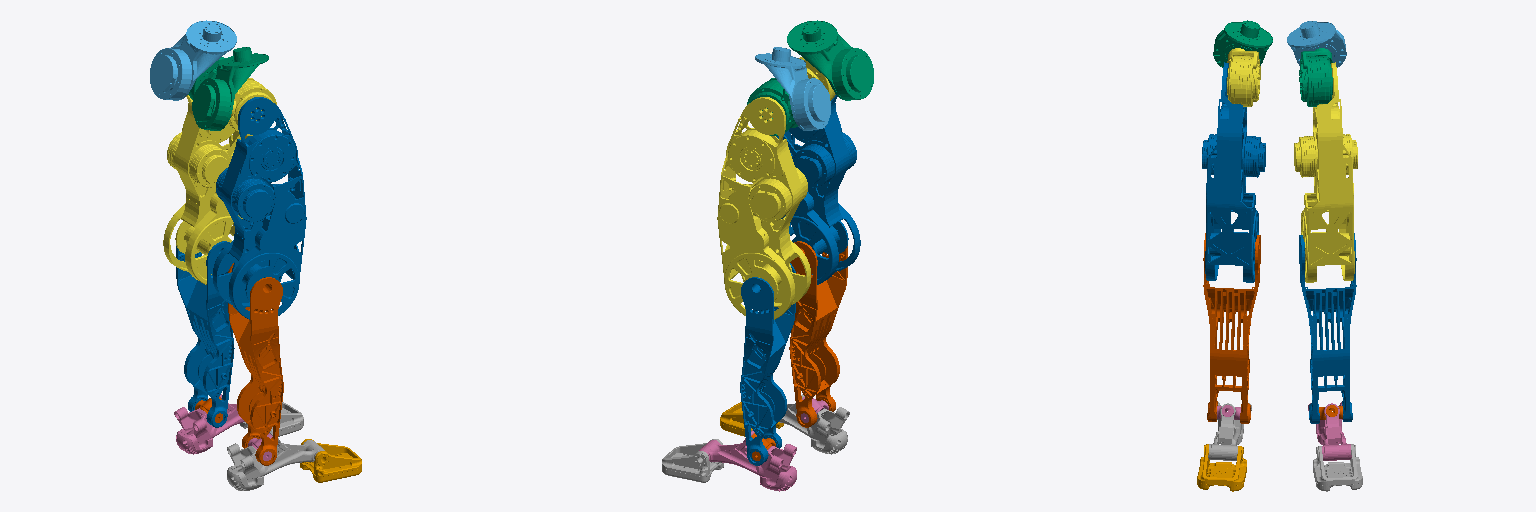
robot.urdf — prestoe:
<?xml version="1.0" encoding="utf-8"?>
<robot name="prestoe">
    <link name="torso_link">
        <inertial>
            <mass value="7.3955327"/>
            <inertia ixx="314898.04974e-6" ixy="-23.52183e-6" ixz="-983.13041e-6" iyy="292494.07567e-6" iyz="824.26242e-6" izz="47419.11099e-6"/>
            <origin rpy="0 0 0" xyz="0.02827e-3 -0.53546e-3 170.93286e-3"/>
        </inertial>
        <visual>
            <origin rpy="0 0 0" xyz="0.0 0.0 0.0"/>
            <geometry>
                <mesh filename="meshes/torso_link.stl"/>
            </geometry>
        </visual>
        <collision>
            <origin rpy="0 0 0" xyz="0.0 0.0 0.0"/>
            <geometry>
                <mesh filename="meshes/torso_link.stl"/>
            </geometry>
        </collision>
    </link>

 <joint name="a_torsoyaw" type="revolute">
      <parent link="torso_link"/>
      <child link="pelvis"/>
      <axis xyz="0 0 1"/>
      <origin rpy="0 0 0" xyz="0.0 0.0 -44.5e-3"/>
      <limit effort="1000" lower="-1.57079632679" upper="1.57079632679" velocity="20"/>
  </joint>

    <link name="pelvis">
        <inertial>
            <mass value="4.05352722"/>
            <inertia ixx="16129.06382e-6" ixy="0.02459e-6" ixz="-11.24282e-6" iyy="8349.24216e-6" iyz="0.16863e-6" izz="13083.52644e-6"/>
            <origin xyz="0.1893e-3 -0.00259e-3 -24.14927e-3"/>
        </inertial>
        <visual>
            <origin rpy="0 0 0" xyz="0.0 0.0 0.0"/>
            <geometry>
                <mesh filename="meshes/pelvis_link.stl"/>
            </geometry>
        </visual>
        <collision>
            <origin rpy="0 0 0" xyz="0.0 0.0 0.0"/>
            <geometry>
                <mesh filename="meshes/pelvis_link.stl"/>
            </geometry>
        </collision>
    </link>

    <joint name="bR_hipyaw" type="revolute">
        <parent link="pelvis"/>
        <child link="R_hipyaw_link"/>
        <axis xyz="0 0 1"/>
        <origin rpy="-0.2618 0 0" xyz="0 -54.71371e-3 -48.37244e-3"/>
        <!-- <origin rpy="0 0 0" xyz="0.0 0.0 -44.5e-3"/> -->
        <limit lower="-1.57" upper="1.57" effort="0.0" velocity="20.0"/>
    </joint>
    <link name="R_hipyaw_link">
        <inertial>
            <mass value="0.81333271"/>
            <inertia ixx="1468.70277e-6" ixy="2.09444e-6" ixz="-808.6506e-6" iyy="1952.95398e-6" iyz="0.83174e-6" izz="1403.2719e-6"/>
            <origin rpy="0 0 0" xyz="-60.23929e-3 0.06825e-3 -73.37881e-3"/>
        </inertial>
        <visual>
            <origin rpy="0 0 0" xyz="0.0 0.0 0.0"/>
            <geometry>
                <mesh filename="meshes/hip_yaw_link.stl"/>
            </geometry>
        </visual>
        <collision>
            <origin rpy="0 0 0" xyz="0.0 0.0 0.0"/>
            <geometry>
                <mesh filename="meshes/hip_yaw_link.stl"/>
            </geometry>
        </collision>
    </link>

    <joint name="R_hiproll" type="revolute">
        <parent link="R_hipyaw_link"/>
        <child link="R_hiproll_link"/>
        <axis xyz="1 0 0"/>
        <origin rpy="0.2618 0.3491 0" xyz="-63.99211e-3 0 -95.68919e-3"/>
        <!--another 15 degree tilt to undo the first one and 20 degree tilt-->
        <limit lower="-1.57" upper="1.57" effort="0.0" velocity="20.0"/>
    </joint>
    <link name="R_hiproll_link">
        <inertial>
            <mass value="1.14932568"/>
            <inertia ixx="920.07414e-6" ixy="-23.66697e-6" ixz="15.05929e-6" iyy="1586.13101e-6" iyz="2.15892e-6" izz="1226.34131e-6"/>
            <origin rpy="0 0 0" xyz="66.03824e-3 15.28026e-3 0.35756e-3"/>
        </inertial>
        <visual>
            <origin rpy="0 0 0" xyz="0.0 0.0 0.0"/>
            <geometry>
                <mesh filename="meshes/r_hip_roll_link.stl"/>
            </geometry>
        </visual>
        <collision>
            <origin rpy="0 0 0" xyz="0.0 0.0 0.0"/>
            <geometry>
                <mesh filename="meshes/r_hip_roll_link.stl"/>
            </geometry>
        </collision>
    </link>

    <joint name="R_hippitch" type="revolute">
        <parent link="R_hiproll_link"/>
        <child link="R_hippitch_link"/>
        <axis xyz="0 1 0"/>
        <origin rpy="0 -0.3491 0" xyz="74e-3 -15.7e-3 0"/>
        <!--another -20 degree tilt to undo the previous one-->
        <limit lower="-1.57" upper="1.57" effort="100.0" velocity="20.0"/>
    </joint>
    <link name="R_hippitch_link">
        <inertial>
            <mass value="4.3699915"/>
            <inertia ixx="298924.68663e-6" ixy="-352.44425e-6" ixz="7197.82909e-6" iyy="300685.59195e-6" iyz="13956.63711e-6" izz="10177.56262e-6"/>
            <origin rpy="0 0 0" xyz="8.85609e-3 12.34699e-3 -236.4855e-3"/>
        </inertial>

        <visual>
            <origin rpy="0 0 0" xyz="0.0 0.0 0.0"/>
            <geometry>
                <mesh filename="meshes/r_thigh_link.stl"/>
            </geometry>
        </visual>
        <collision>
            <origin rpy="0 0 0" xyz="0.0 0.0 0.0"/>
            <geometry>
                <mesh filename="meshes/r_thigh_link.stl"/>
            </geometry>
        </collision>
    </link>


    <joint name="R_knee" type="revolute">
        <parent link="R_hippitch_link"/>
        <child link="R_shank_link"/>
        <axis xyz="0 1 0"/>
        <origin rpy="0 0 0" xyz="0.0 15.2e-3 -348e-3"/>
        <limit upper="2.61799" lower="0.0" effort="0.0" velocity="20.0"/>
    </joint>
    <link name="R_shank_link">
        <inertial>
            <mass value="1.53872774"/>
            <inertia ixx="94818.95217e-6" ixy="0.73746e-6" ixz="-1571.54542e-6" iyy="94726.4192e-6" iyz="40.20347e-6" izz="2088.92694e-6"/>
            <origin rpy="0 0 0" xyz="-0.32914e-3 0.04704e-3 -219.68202e-3"/>
        </inertial>

        <visual>
            <origin rpy="0 0 0" xyz="0.0 0.0 0.0"/>
            <geometry>
                <mesh filename="meshes/shank_link.stl"/>
            </geometry>
        </visual>
        <collision>
            <origin rpy="0 0 0" xyz="0.0 0.0 0.0"/>
            <geometry>
                <mesh filename="meshes/shank_link.stl"/>
            </geometry>
        </collision>
    </link>


    <joint name="R_anklepitch" type="revolute">
        <parent link="R_shank_link"/>
        <child link="R_ankle_link"/>
        <axis xyz="0 1 0"/>
        <origin rpy="0 -0.523599 0" xyz="0.0 0.0 -0.355"/>
        <!--shift downwards, rotate by -30 deg-->
        <limit lower="-1.57" upper="1.57" effort="0.0" velocity="20.0"/>
    </joint>
    <link name="R_ankle_link">
        <inertial>
            <mass value="0.20111053"/>
            <inertia ixx="48.83414e-6" ixy="0.00143e-6" ixz="-0.0021e-6" iyy="45.95624e-6" iyz="0.00153e-6" izz="74.52458e-6"/>
            <origin rpy="0 0 0" xyz="11.07071e-3 0.00053e-3 -0.00076e-3"/>
        </inertial>

        <visual>
            <origin rpy="0 0 0" xyz="0.0 0.0 0.0"/>
            <geometry>
                <mesh filename="meshes/ankle_pitch_link.stl"/>
            </geometry>
        </visual>
        <collision>
            <origin rpy="0 0 0" xyz="0.0 0.0 0.0"/>
            <geometry>
                <mesh filename="meshes/ankle_pitch_link.stl"/>
            </geometry>
        </collision>
    </link>


    <joint name="R_ankleroll" type="revolute">
        <parent link="R_ankle_link"/>
        <child link="R_foot_link"/>
        <axis xyz="1 0 0"/>
        <origin rpy="0 0 0" xyz="0.0 0.0 0.0"/>
        <limit lower="-0.785" upper="0.785" effort="0.0" velocity="20.0"/>
    </joint>
    <link name="R_foot_link">
        <inertial>
            <mass value="0.67696856"/>
            <inertia ixx="2711.33678e-6" ixy="-0.10761e-6" ixz="1805.42888e-6" iyy="4882.55547e-6" iyz="-0.08071e-6" izz="2592.25732e-6"/>
            <origin rpy="0 0 0" xyz="22.09392e-3 -0.00337e-3 -50.15365e-3"/>
        </inertial>

        <visual>
            <origin rpy="0 0 0" xyz="0.0 0.0 0.0"/>
            <geometry>
                <mesh filename="meshes/foot_link.stl"/>
            </geometry>
        </visual>
        <collision>
            <origin rpy="0 0 0" xyz="0.0 0.0 0.0"/>
            <geometry>
                <mesh filename="meshes/foot_link.stl"/>
            </geometry>
        </collision>
    </link>


    <joint name="R_toepitch" type="revolute">
        <parent link="R_foot_link"/>
        <child link="R_toe_link"/>
        <axis xyz="0 1 0"/>
        <origin rpy="0 0.523599 0" xyz="84.97837e-3 0.0 -85.43851e-3"/>
        <limit lower="-0.5236" upper="0.5236" effort="0.0" velocity="20.0"/>
    </joint>
    <link name="R_toe_link">
        <inertial>
            <mass value="0.25395867"/>
            <inertia ixx="422.66848e-6" ixy="0.30058e-6" ixz="201.67782e-6" iyy="648.32269e-6" iyz="0.69143e-6" izz="657.93967e-6"/>
            <origin rpy="0 0 0" xyz="27.48999e-3 0.10489e-3 -26.31463e-3"/>
        </inertial>

        <visual>
            <origin rpy="0 0 0" xyz="0.0 0.0 0.0"/>
            <geometry>
                <mesh filename="meshes/toe_link.stl"/>
            </geometry>
        </visual>
        <collision>
            <origin rpy="0 0 0" xyz="0.0 0.0 0.0"/>
            <geometry>
                <mesh filename="meshes/toe_link.stl"/>
            </geometry>
        </collision>
    </link>
    <!--!!!!!!!!!!!! Left Leg !!!!!!!!!!!!!!!!!!!!!!!!!!!!!!!!!!!!-->
    <joint name="cL_hipyaw" type="revolute">
        <parent link="pelvis"/>
        <child link="L_hipyaw_link"/>
        <axis xyz="0 0 1"/>
        <origin rpy="0.2618 0 0" xyz="0 54.71371e-3 -48.37244e-3"/>
        <limit effort="100" lower="-1.570796" upper="1.570796" velocity="20"/>
    </joint>
    <link name="L_hipyaw_link">
        <inertial>
            <mass value="0.81333271"/>
            <inertia ixx="1468.70277e-6" ixy="2.09444e-6" ixz="-808.6506e-6" iyy="1952.95398e-6" iyz="0.83174e-6" izz="1403.2719e-6"/>
            <origin rpy="0 0 0" xyz="-60.23929e-3 0.06825e-3 -73.37881e-3"/>
            <!-- Since this is left leg, y coordinate is positive -->
        </inertial>
        <visual>
            <origin rpy="0 0 0" xyz="0.0 0.0 0.0"/>
            <geometry>
                <mesh filename="meshes/hip_yaw_link.stl"/>
            </geometry>
        </visual>
        <collision>
            <origin rpy="0 0 0" xyz="0.0 0.0 0.0"/>
            <geometry>
                <mesh filename="meshes/hip_yaw_link.stl"/>
            </geometry>
        </collision>
    </link>

    <joint name="L_hiproll" type="revolute">
        <parent link="L_hipyaw_link"/>
        <child link="L_hiproll_link"/>
        <axis xyz="1 0 0"/>
        <origin rpy="-0.2618 0.3491 0" xyz="-63.99211e-3 0 -95.68919e-3"/>
        <!--another -15 degree tilt to undo the first one and 20 degree tilt-->
        <limit effort="100" lower="-1.570796" upper="1.570796" velocity="20"/>
    </joint>
    <link name="L_hiproll_link">
        <inertial>
            <mass value="1.14932588"/>
            <inertia ixx="920.08555e-6" ixy="23.66599e-6" ixz="13.88681e-6" iyy="1586.14307e-6" iyz="-2.43377e-6" izz="1226.34169e-6"/>
            <origin rpy="0 0 0" xyz="66.03823e-3 -15.28028e-3 0.34236e-3"/>
        </inertial>
        <visual>
            <origin rpy="0 0 0" xyz="0.0 0.0 0.0"/>
            <geometry>
                <mesh filename="meshes/l_hip_roll_link.stl"/>
            </geometry>
        </visual>
        <collision>
            <origin rpy="0 0 0" xyz="0.0 0.0 0.0"/>
            <geometry>
                <mesh filename="meshes/l_hip_roll_link.stl"/>
            </geometry>
        </collision>
    </link>

    <joint name="L_hippitch" type="revolute">
        <parent link="L_hiproll_link"/>
        <child link="L_hippitch_link"/>
        <axis xyz="0 1 0"/>
        <origin rpy="0 -0.3491 0" xyz="74e-3 15.7e-3 0"/>
        <!--another -20 degree tilt to undo the previous one-->
        <limit effort="100" lower="-1.570796" upper="1.570796" velocity="20"/>
    </joint>
    <link name="L_hippitch_link">
        <inertial>
            <mass value="4.3699915"/>
            <inertia ixx="298924.68663e-6" ixy="352.44425e-6" ixz="7197.82909e-6" iyy="300685.59195e-6" iyz="-13956.63711e-6" izz="10177.56262e-6"/>
            <origin rpy="0 0 0" xyz="8.85609e-3 -12.34699e-3 -236.4855e-3"/>
            <!-- Since this is left leg, y coordinate is negative -->
        </inertial>

        <visual>
            <origin rpy="0 0 0" xyz="0.0 0.0 0.0"/>
            <geometry>
                <mesh filename="meshes/l_thigh_link.stl"/>
            </geometry>
        </visual>
        <collision>
            <origin rpy="0 0 0" xyz="0.0 0.0 0.0"/>
            <geometry>
                <mesh filename="meshes/l_thigh_link.stl"/>
            </geometry>
        </collision>
    </link>


    <joint name="L_knee" type="revolute">
        <parent link="L_hippitch_link"/>
        <child link="L_shank_link"/>
        <axis xyz="0 1 0"/>
        <origin rpy="0 0 0" xyz="0.0 -15.2e-3 -348e-3"/>
        <limit effort="100" upper="2.61799" lower="0.0" velocity="20"/>
    </joint>
    <link name="L_shank_link">
        <inertial>
            <mass value="1.53872774"/>
            <inertia ixx="94818.95217e-6" ixy="0.73746e-6" ixz="-1571.54542e-6" iyy="94726.4192e-6" iyz="40.20347e-6" izz="2088.92694e-6"/>
            <origin rpy="0 0 0" xyz="-0.32914e-3 0.04704e-3 -219.68202e-3"/>
        </inertial>

        <visual>
            <origin rpy="0 0 0" xyz="0.0 0.0 0.0"/>
            <geometry>
                <mesh filename="meshes/shank_link.stl"/>
            </geometry>
        </visual>
        <collision>
            <origin rpy="0 0 0" xyz="0.0 0.0 0.0"/>
            <geometry>
                <mesh filename="meshes/shank_link.stl"/>
            </geometry>
        </collision>
    </link>


    <joint name="L_anklepitch" type="revolute">
        <parent link="L_shank_link"/>
        <child link="L_ankle_link"/>
        <axis xyz="0 1 0"/>
        <origin rpy="0 -0.523599 0" xyz="0.0 0.0 -0.355"/>
        <!--shift downwards, rotate by -30 deg-->
        <limit effort="100" lower="-1.570796" upper="1.570796" velocity="20"/>
    </joint>
    <link name="L_ankle_link">
        <inertial>
            <mass value="0.20111053"/>
            <inertia ixx="48.83414e-6" ixy="0.00143e-6" ixz="-0.0021e-6" iyy="45.95624e-6" iyz="0.00153e-6" izz="74.52458e-6"/>
            <origin rpy="0 0 0" xyz="11.07071e-3 0.00053e-3 -0.00076e-3"/>
        </inertial>

        <visual>
            <origin rpy="0 0 0" xyz="0.0 0.0 0.0"/>
            <geometry>
                <mesh filename="meshes/ankle_pitch_link.stl"/>
            </geometry>
        </visual>
        <collision>
            <origin rpy="0 0 0" xyz="0.0 0.0 0.0"/>
            <geometry>
                <mesh filename="meshes/ankle_pitch_link.stl"/>
            </geometry>
        </collision>


    </link>


    <joint name="L_ankleroll" type="revolute">
        <parent link="L_ankle_link"/>
        <child link="L_foot_link"/>
        <axis xyz="1 0 0"/>
        <origin rpy="0 0 0" xyz="0.0 0.0 0.0"/>
        <limit effort="100" lower="-0.523599" upper="0.523599" velocity="20"/>
    </joint>
    <link name="L_foot_link">
        <inertial>
            <mass value="0.67696856"/>
            <inertia ixx="2711.33678e-6" ixy="-0.10761e-6" ixz="1805.42888e-6" iyy="4882.55547e-6" iyz="-0.08071e-6" izz="2592.25732e-6"/>
            <origin rpy="0 0 0" xyz="22.09392e-3 -0.00337e-3 -50.15365e-3"/>
        </inertial>

        <visual>
            <origin rpy="0 0 0" xyz="0.0 0.0 0.0"/>
            <geometry>
                <mesh filename="meshes/foot_link.stl"/>
            </geometry>
        </visual>
        <collision>
            <origin rpy="0 0 0" xyz="0.0 0.0 0.0"/>
            <geometry>
                <mesh filename="meshes/foot_link.stl"/>
            </geometry>
        </collision>
    </link>

    <joint name="L_toepitch" type="revolute">
        <parent link="L_foot_link"/>
        <child link="L_toe_link"/>
        <axis xyz="0 1 0"/>
        <origin rpy="0 0.523599 0" xyz="84.97837e-3 0.0 -85.43851e-3"/>
        <limit effort="100" lower="-0.523599" upper="0.523599" velocity="20"/>
    </joint>
    <link name="L_toe_link">
        <inertial>
            <mass value="0.25395867"/>
            <inertia ixx="422.66848e-6" ixy="0.30058e-6" ixz="201.67782e-6" iyy="648.32269e-6" iyz="0.69143e-6" izz="657.93967e-6"/>
            <origin rpy="0 0 0" xyz="27.48999e-3 0.10489e-3 -26.31463e-3"/>
        </inertial>

        <visual>
            <origin rpy="0 0 0" xyz="0.0 0.0 0.0"/>
            <geometry>
                <mesh filename="meshes/toe_link.stl"/>
            </geometry>
        </visual>
        <collision>
            <origin rpy="0 0 0" xyz="0.0 0.0 0.0"/>
            <geometry>
                <mesh filename="meshes/toe_link.stl"/>
            </geometry>
        </collision>
    </link>
</robot>

--- Facts derived from the render (not from the file) ---
The picture shows the robot from 3 angles, left to right: view 1: azimuth 30°, elevation 25°; view 2: azimuth 150°, elevation 25°; view 3: azimuth 270°, elevation 25°; orthographic projection.
Model prestoe with 16 links and 15 joints (15 revolute), rooted at torso_link, posed all joints at 0.
Visible links, largest first — view 1: R_hippitch_link, L_hippitch_link, R_shank_link, L_shank_link, L_hipyaw_link, R_hipyaw_link, R_foot_link, L_foot_link, R_toe_link, R_hiproll_link, L_toe_link; view 2: L_hippitch_link, R_hippitch_link, L_shank_link, R_shank_link, R_hipyaw_link, L_hipyaw_link, L_foot_link, R_foot_link, L_toe_link, L_hiproll_link, R_toe_link; view 3: R_hippitch_link, L_hippitch_link, R_shank_link, L_shank_link, R_hiproll_link, L_hiproll_link, R_hipyaw_link, L_hipyaw_link, R_toe_link, L_toe_link, R_foot_link, L_foot_link.
Link boxes in pixels (box(x1,y1,x2,y2)): R_hippitch_link: box(213, 97, 306, 319); L_hippitch_link: box(163, 95, 247, 284); R_shank_link: box(228, 263, 283, 465); L_shank_link: box(176, 241, 234, 427); L_hipyaw_link: box(150, 20, 236, 100); R_hipyaw_link: box(192, 47, 268, 130); R_foot_link: box(227, 430, 324, 490); L_foot_link: box(174, 394, 244, 454); R_toe_link: box(300, 439, 361, 482); R_hiproll_link: box(225, 78, 276, 135); L_toe_link: box(240, 402, 303, 436); L_hippitch_link: box(717, 97, 810, 319); R_hippitch_link: box(776, 95, 860, 284); L_shank_link: box(740, 263, 795, 465); R_shank_link: box(789, 241, 847, 427); R_hipyaw_link: box(787, 20, 873, 100); L_hipyaw_link: box(755, 47, 830, 130); L_foot_link: box(699, 430, 796, 491); R_foot_link: box(779, 394, 849, 454); L_toe_link: box(662, 439, 723, 482); L_hiproll_link: box(747, 78, 797, 135); R_toe_link: box(720, 402, 783, 436); R_hippitch_link: box(1202, 62, 1265, 282); L_hippitch_link: box(1294, 62, 1357, 282); R_shank_link: box(1203, 233, 1260, 423); L_shank_link: box(1299, 233, 1356, 423); R_hiproll_link: box(1227, 48, 1260, 106); L_hiproll_link: box(1299, 48, 1332, 106); R_hipyaw_link: box(1213, 20, 1272, 67); L_hipyaw_link: box(1287, 21, 1346, 67); R_toe_link: box(1197, 444, 1246, 491); L_toe_link: box(1313, 444, 1362, 491); R_foot_link: box(1208, 402, 1251, 460); L_foot_link: box(1308, 402, 1351, 460).
Bounding box of the posed robot: 0.3277 × 0.3193 × 0.9013 m (x, y, z).
14 mesh visuals loaded from 11 distinct referenced files (9 binary STL); not drawn: 2 (reference not matched to a file when rendering).
